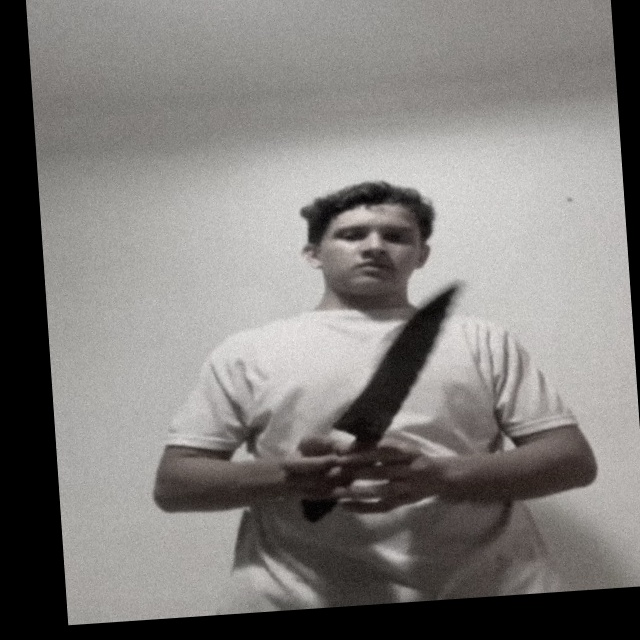Sharp-Object: (320, 286, 469, 438)
